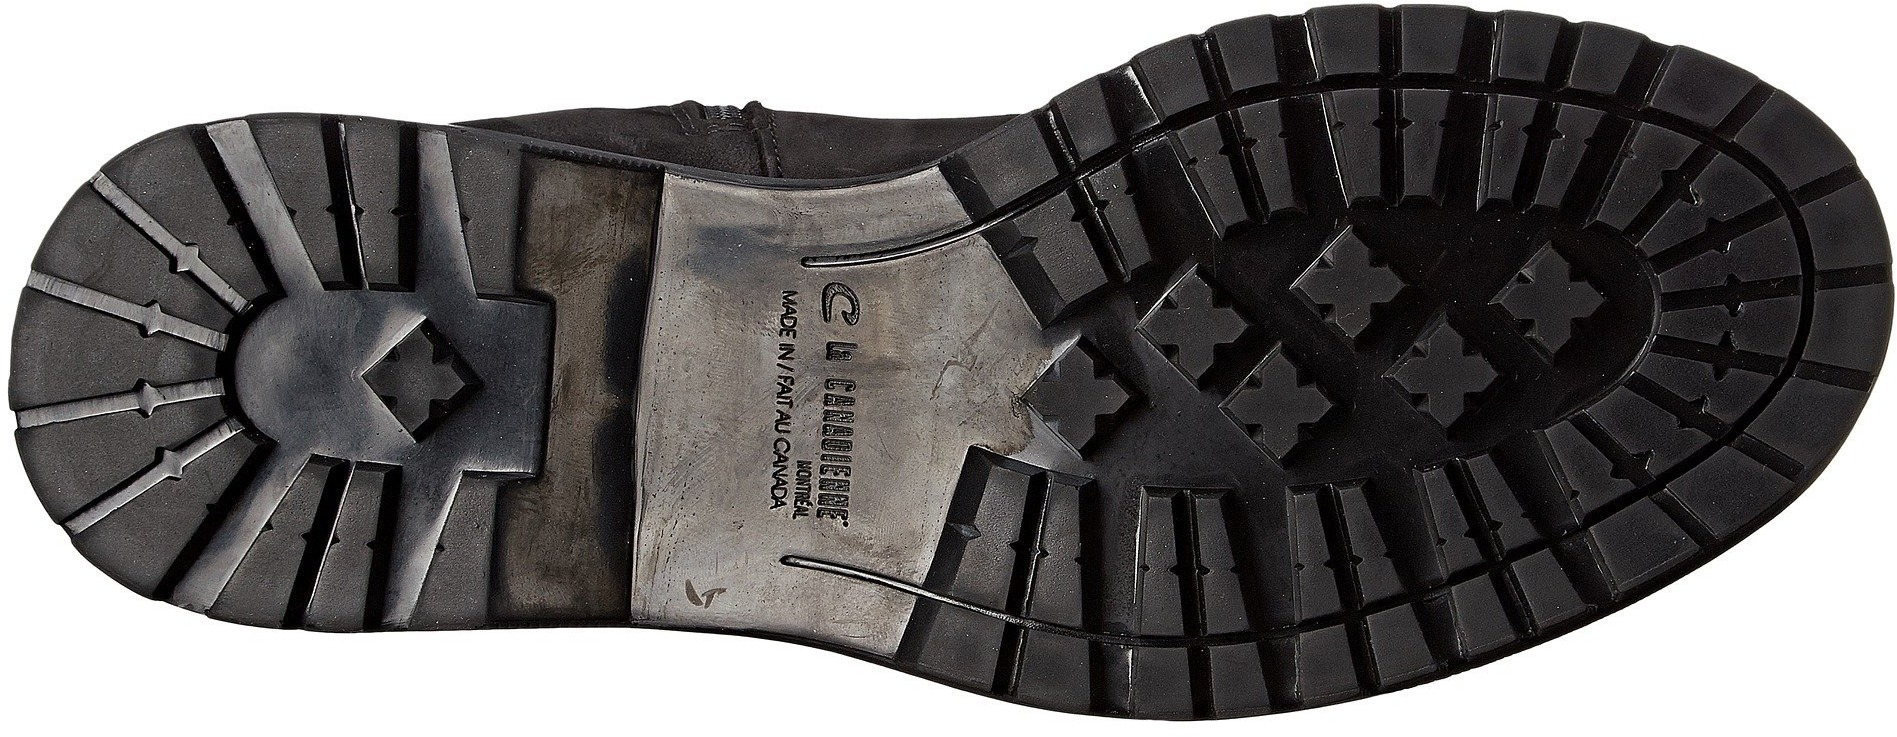bowtie: (1624, 184, 1869, 424), (45, 257, 281, 466), (963, 455, 1152, 656), (1406, 433, 1595, 612), (1125, 79, 1302, 247)
quad: (1308, 2, 1503, 100)
star: (1128, 258, 1351, 474), (1291, 221, 1501, 428), (341, 300, 500, 459)
text: (730, 286, 915, 462), (754, 459, 853, 555)
